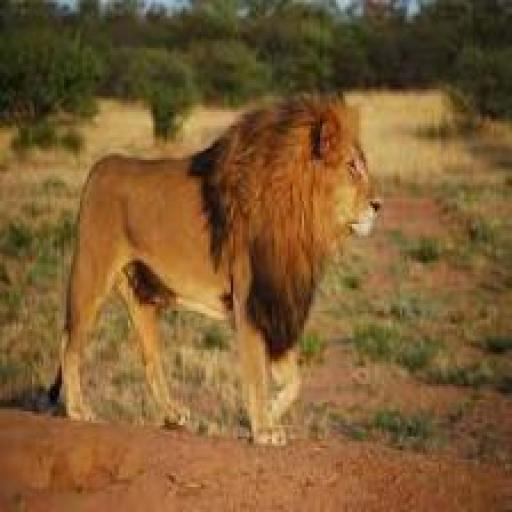lion: (53, 80, 385, 457)
